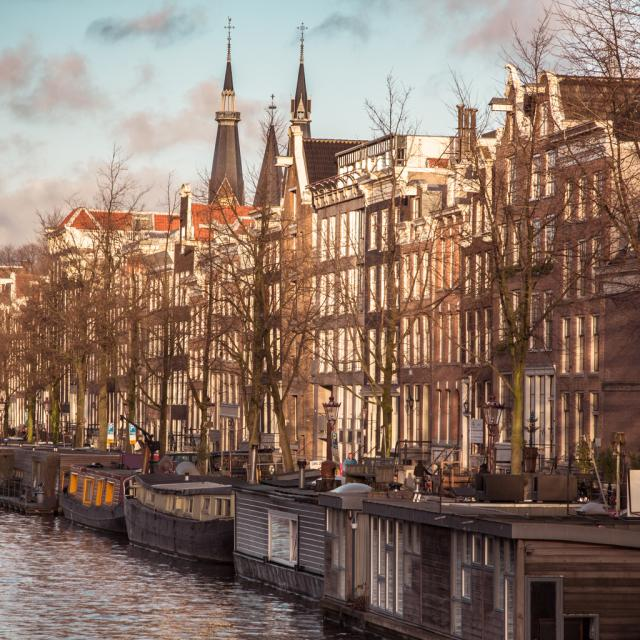Boat: (115, 459, 257, 569), (49, 456, 160, 531)
